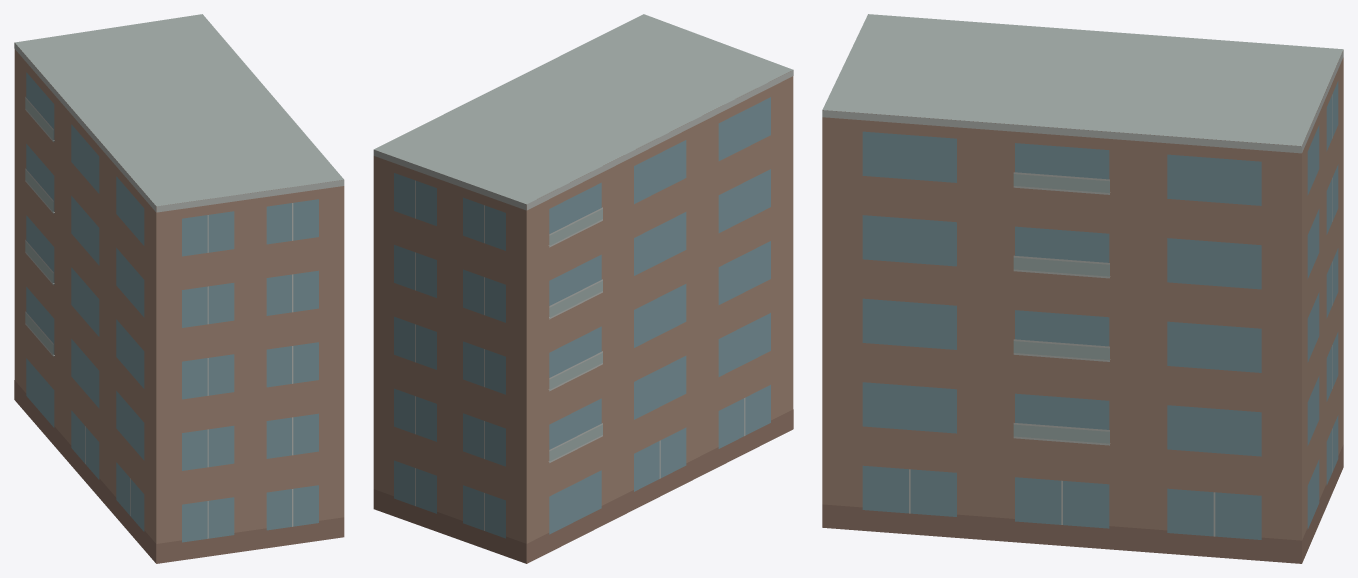
The model's file is survey-upis-32951033.glb.
The picture shows the model from 3 angles, left to right: view 1: azimuth 30°, elevation 25°; view 2: azimuth 150°, elevation 25°; view 3: azimuth 270°, elevation 25°; orthographic projection. The views are drawn at different scales.
Parts seen in each view (by area): view 1: survey-upis-32951033.tmp; view 2: survey-upis-32951033.tmp; view 3: survey-upis-32951033.tmp.
Boxes of the visible parts, box(x1,y1,x2,y2) form: survey-upis-32951033.tmp: box(14, 14, 344, 563); survey-upis-32951033.tmp: box(373, 14, 793, 563); survey-upis-32951033.tmp: box(822, 14, 1343, 563).
Size of the model in its own units: 9.58 by 14.1 by 15.96.
